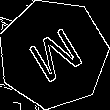M_SE: (21, 20, 86, 88)
